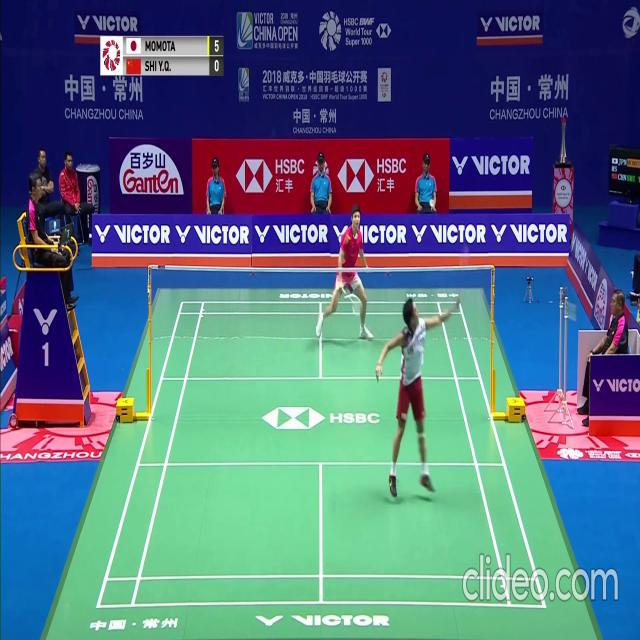Shuttlecock: (430, 199, 435, 206)
